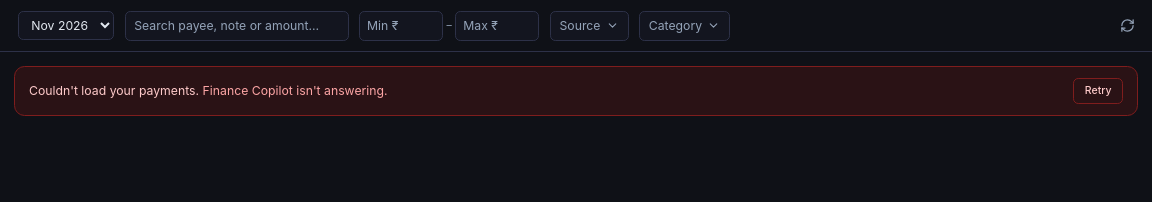
Scenario: Transactions when the API fails › says the list could not load, never "No payments", and recovers on Retry
This screenshot has width=1152, height=202.
Expected: the message shows "Couldn't load your payments.", [14,66,1138,116]
Click the button "Retry" at (1098, 91), box [1073,78,1123,104]
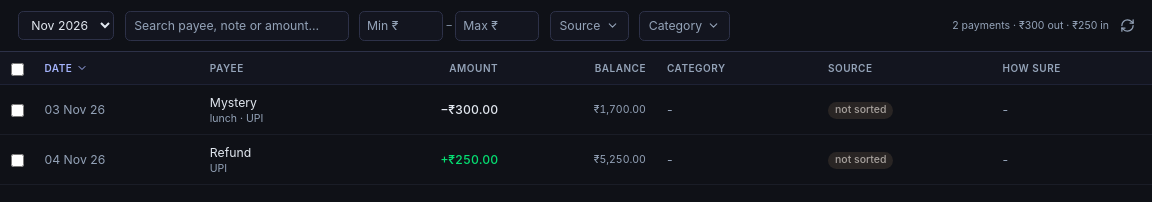
Expected: the text "Mystery" is shown, [210,95,257,110]
Expected: the message "Couldn't load your payments.Finance Copilot isn't answering. Retry" is gone
